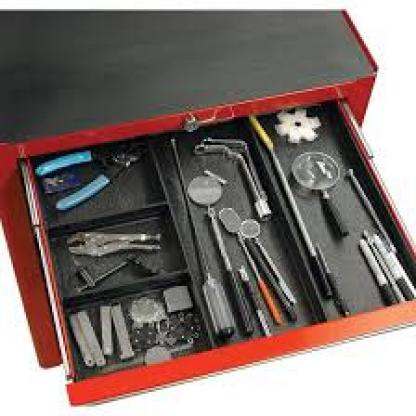Tool Box: (25, 89, 414, 388)
